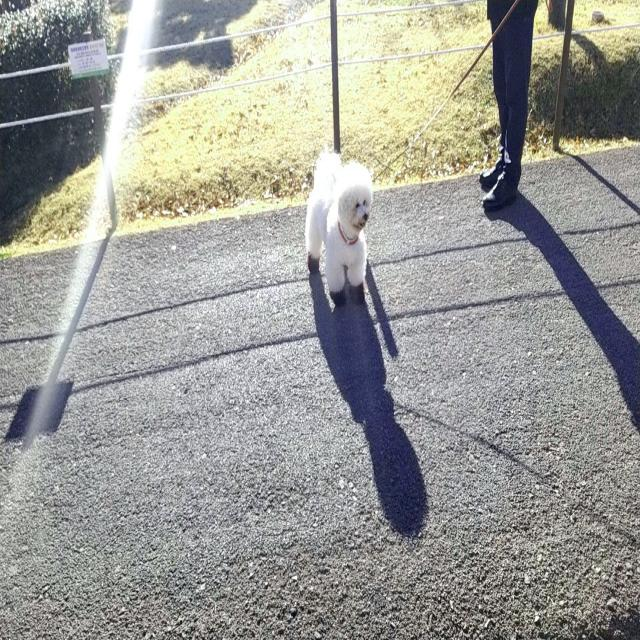Leashed_Dog: (305, 0, 528, 309)
